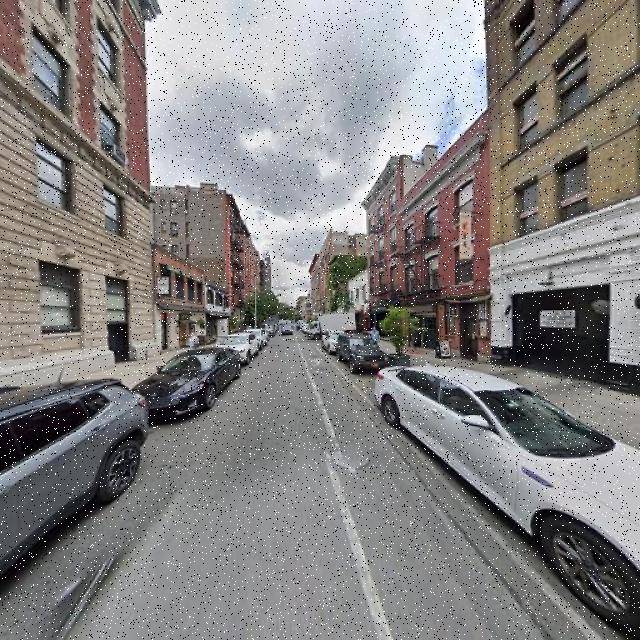Building: (1, 1, 149, 393), (492, 1, 640, 390), (370, 113, 488, 362)
